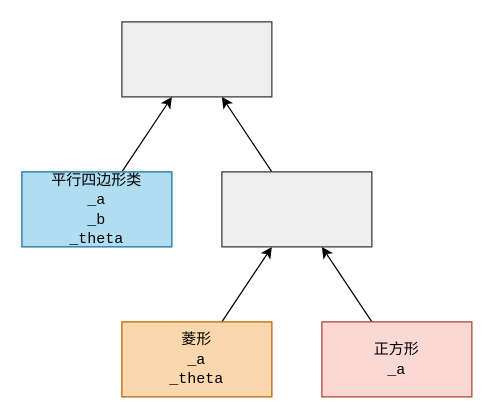
This 494x419 diagram has some shape labels left out. Here are the shapes that lost their labels. From the top down, the box of each, then its label:
(121, 21, 272, 97): 抽象平行四边形基类 _a
(221, 171, 372, 247): 抽象菱形基类 _a
